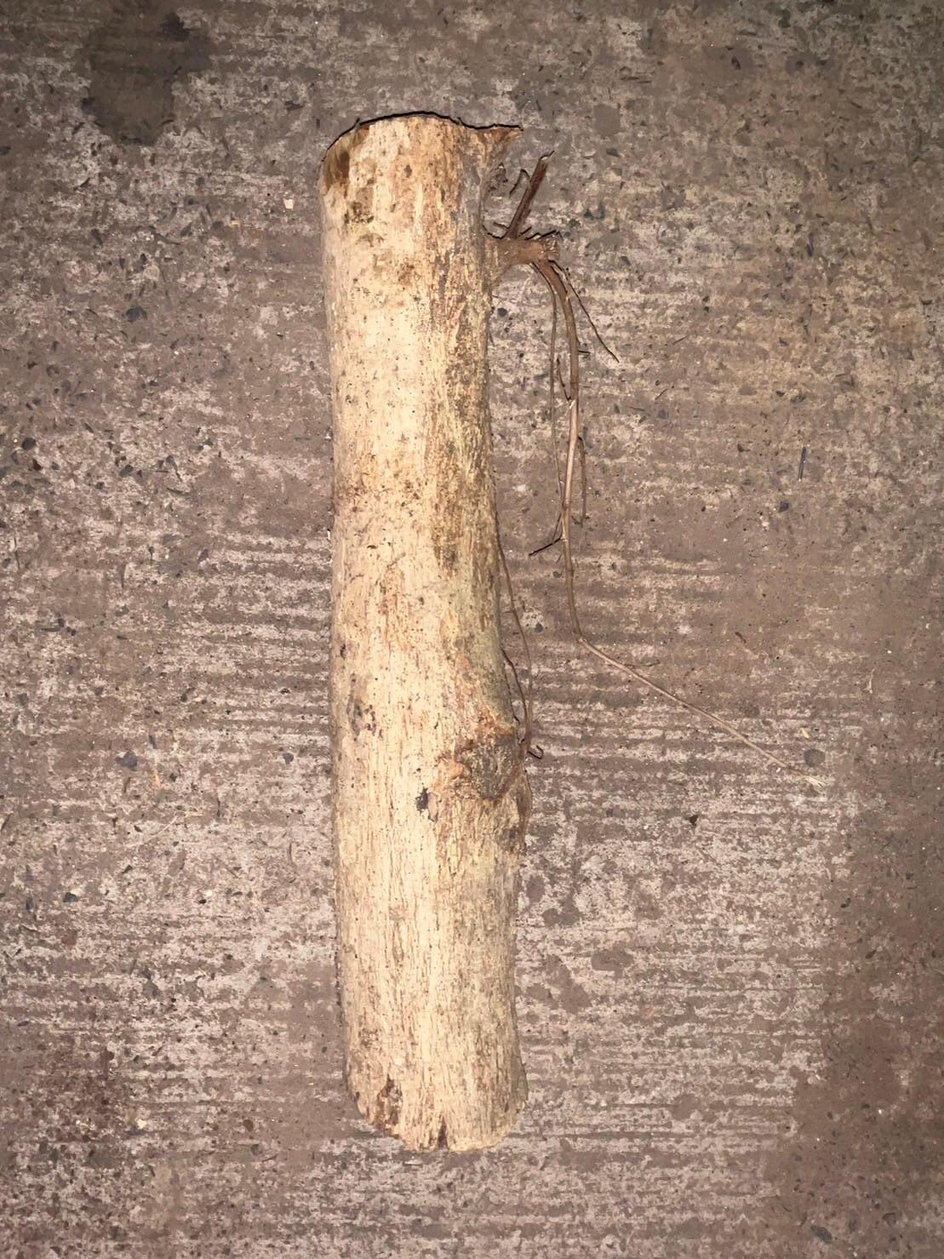General: (313, 106, 810, 1157)
Pathological: (314, 107, 556, 1155)
Sharps: (486, 151, 821, 788)
